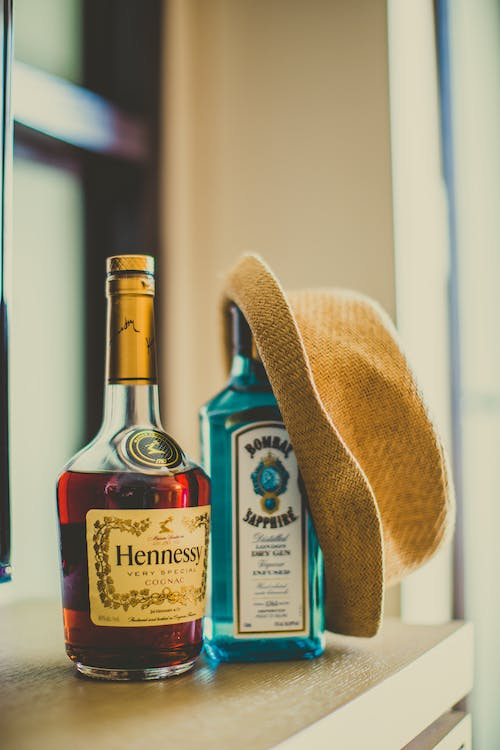alcohol: (54, 254, 212, 683), (197, 301, 331, 665)
